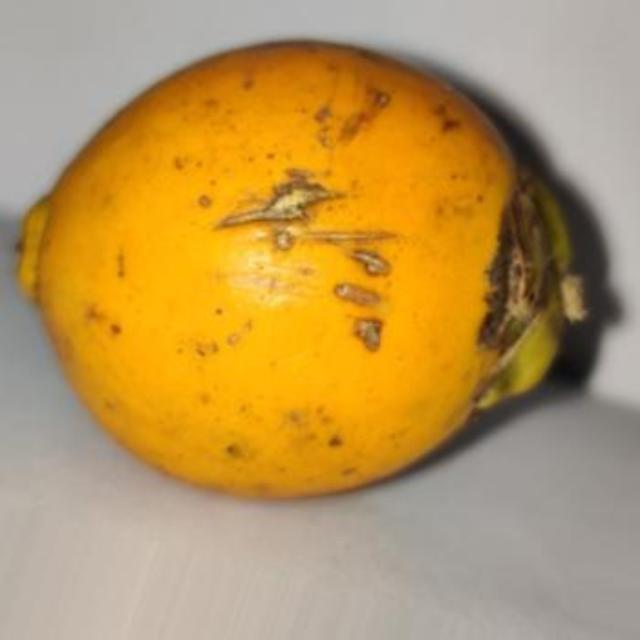good: (16, 38, 587, 503)
